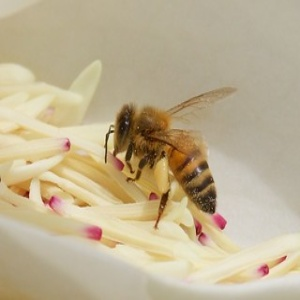bee: (107, 85, 244, 234)
